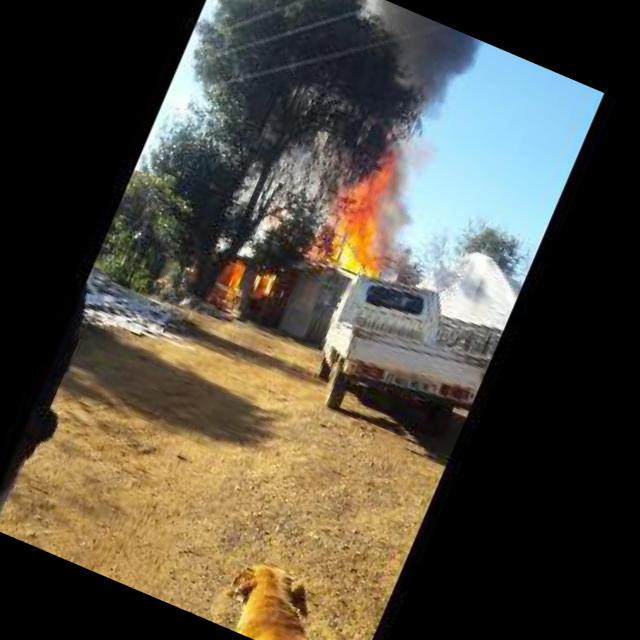fire: (306, 133, 430, 285), (218, 264, 244, 300)
